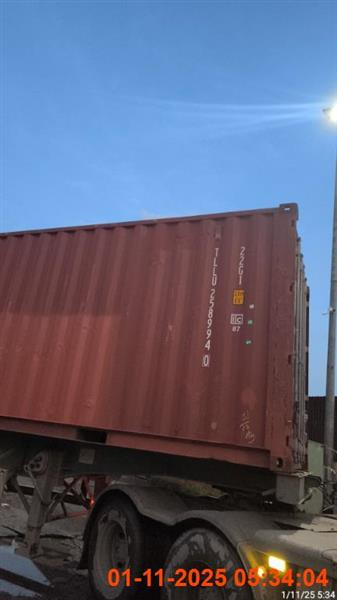broken: (0, 202, 332, 599)
